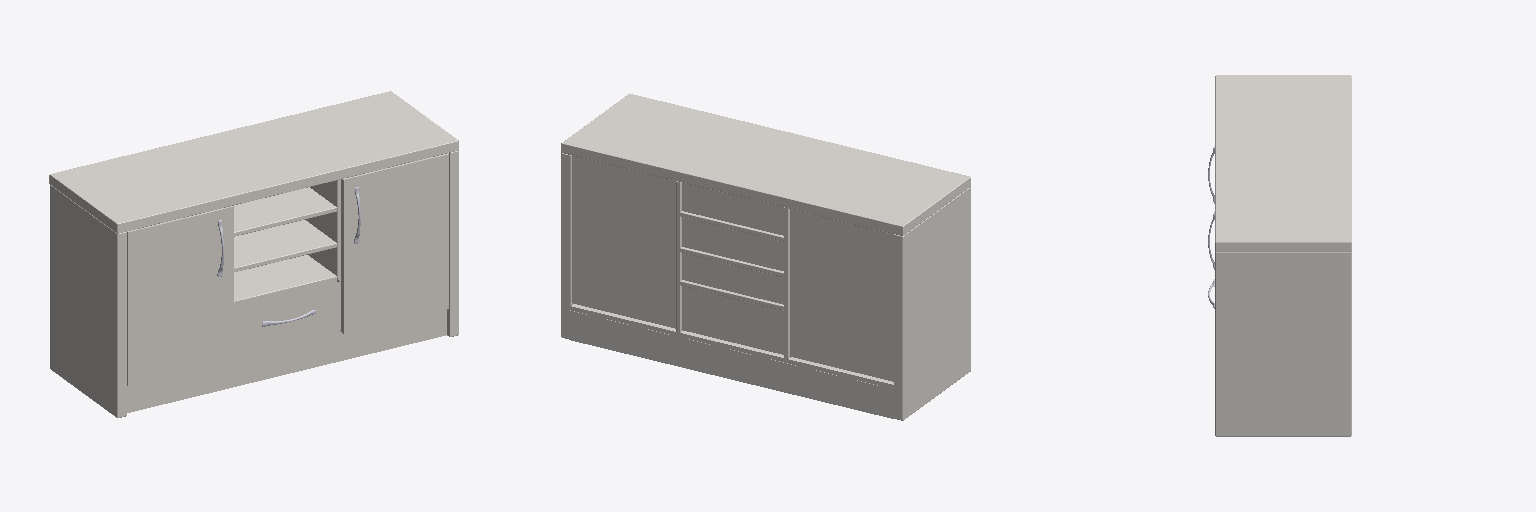
Rendered from movel.obj.
The picture shows the model from 3 angles: view 1: azimuth 30°, elevation 25°; view 2: azimuth 150°, elevation 25°; view 3: azimuth 270°, elevation 25°; orthographic projection.
Parts seen in each view (by area): view 1: main_body, porta2, porta1, porta3, handles; view 2: main_body, back_panel; view 3: main_body.
Part boxes in pixels (left/top/right/bottom): main_body: left=49, top=91, right=458, bottom=417; porta2: left=341, top=153, right=448, bottom=333; porta1: left=127, top=206, right=233, bottom=386; porta3: left=234, top=279, right=339, bottom=359; handles: left=217, top=187, right=360, bottom=326; main_body: left=561, top=94, right=970, bottom=420; back_panel: left=572, top=156, right=893, bottom=381; main_body: left=1215, top=75, right=1351, bottom=436.
Bounding box in the file's own units: 1158 × 630 × 423.